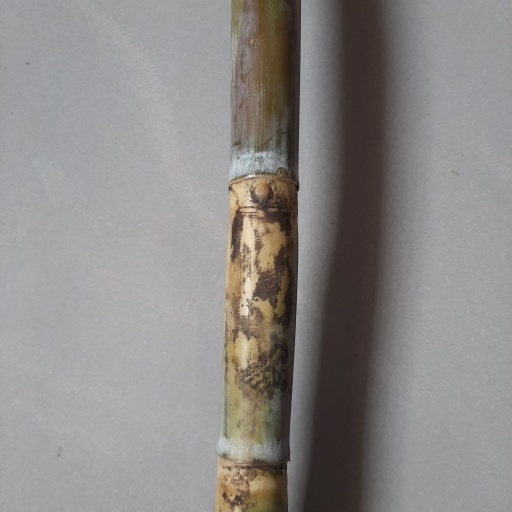Bud: (252, 180, 274, 209)
